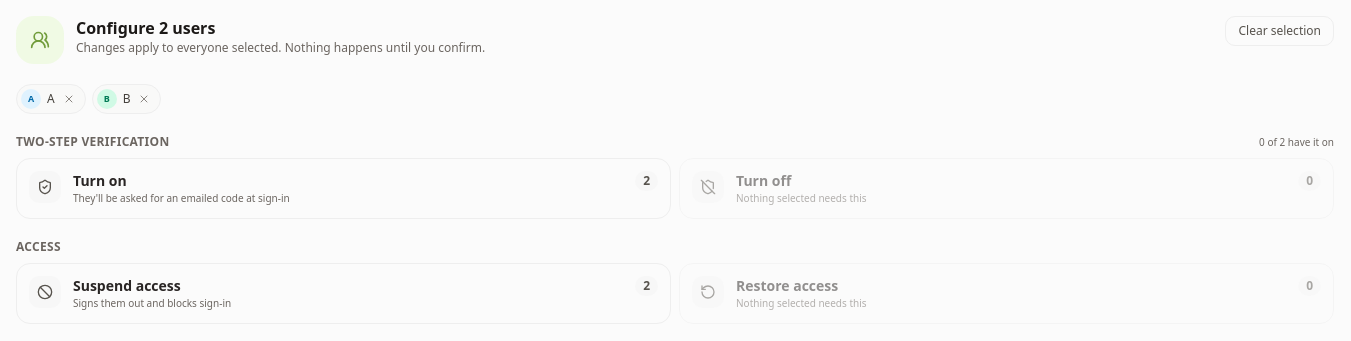
BulkConfigPanel › does nothing when the confirm is cancelled
Step 1. Click the button with aria-label "Suspend access for 2 selected" → (45, 292), box [16, 263, 671, 324]
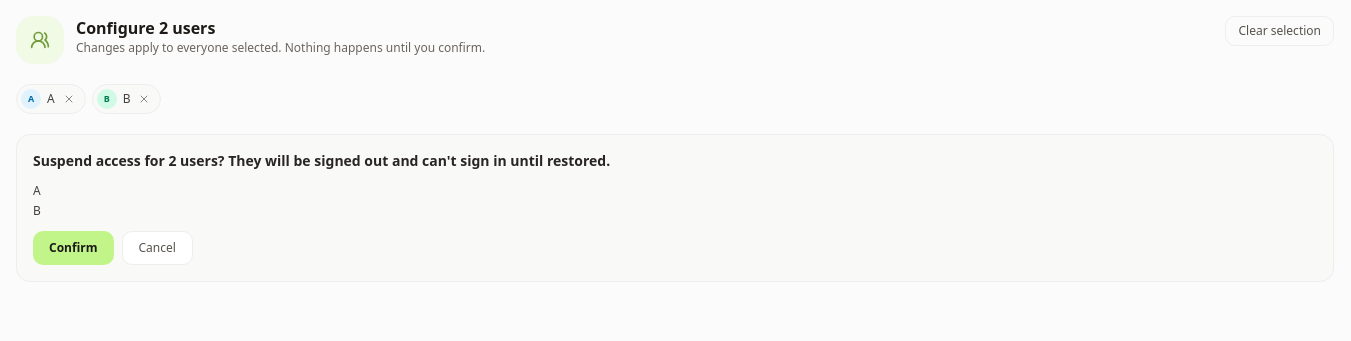
Step 2. Click the button with aria-label "Cancel bulk action" → (157, 248), box [122, 231, 193, 265]
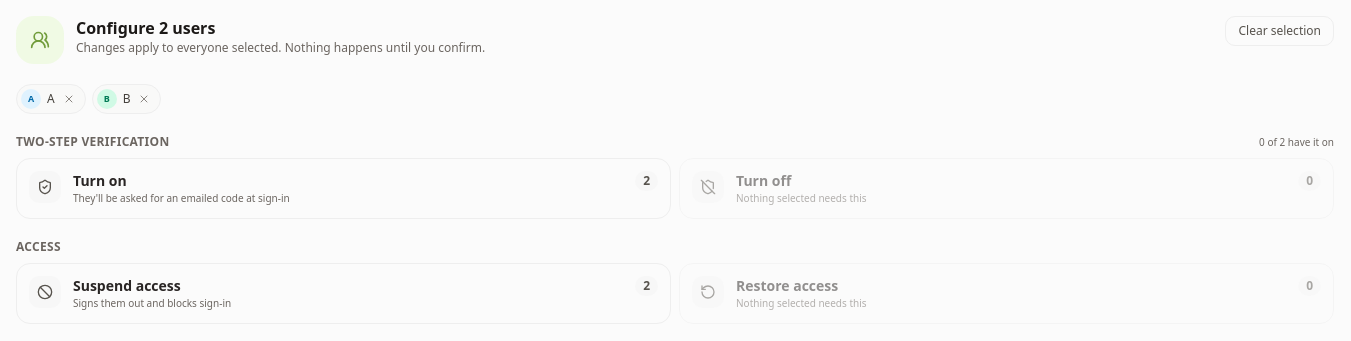
Check: the button with aria-label "Suspend access for 2 selected" is shown, box [16, 263, 671, 324]
